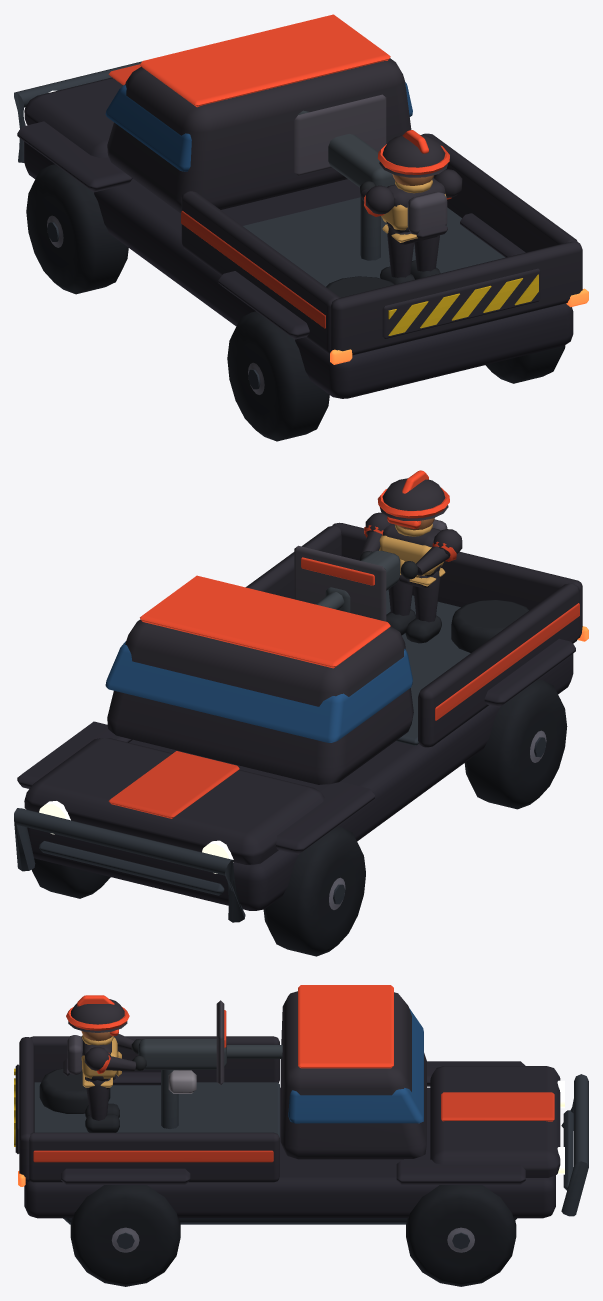
Rendered from technical.glb.
3 views of the same model, one above another, from view 1: azimuth 30°, elevation 25°; view 2: azimuth 150°, elevation 25°; view 3: azimuth 270°, elevation 25° (orthographic). The views are drawn at different scales.
Visible parts, largest first — view 1: technical Ashen charcoal, technical Tyre black, technical Ember paint, technical Gunmetal, technical Turret Ashen slate, technical Turret Ashen charcoal, technical Turret Gunmetal, technical Tinted glass, technical Hazard yellow, technical Turret Ember paint, technical Turret Sand webbing, technical Turret Rubber (+1 smaller); view 2: technical Ashen charcoal, technical Tyre black, technical Ember paint, technical Gunmetal, technical Tinted glass, technical Turret Ashen charcoal, technical Turret Ashen slate, technical Turret Ember paint, technical Turret Rubber, technical Turret Sand webbing, technical Turret Gunmetal, technical Lamp glow; view 3: technical Ashen charcoal, technical Tyre black, technical Ember paint, technical Gunmetal, technical Tinted glass, technical Turret Gunmetal, technical Turret Ashen charcoal, technical Turret Ashen slate, technical Turret Ember paint, technical Turret Rubber, technical Turret Sand webbing, technical Ash grey (+1 smaller).
Part boxes in pixels (x1,y1,x2,y2): technical Ashen charcoal: (17, 58, 582, 398); technical Tyre black: (26, 164, 565, 441); technical Ember paint: (108, 14, 390, 328); technical Gunmetal: (14, 61, 504, 389); technical Turret Ashen slate: (294, 94, 447, 234); technical Turret Ashen charcoal: (360, 135, 462, 277); technical Turret Gunmetal: (297, 110, 395, 260); technical Tinted glass: (105, 82, 412, 171); technical Hazard yellow: (388, 274, 538, 335); technical Turret Ember paint: (364, 130, 451, 216); technical Turret Sand webbing: (381, 180, 446, 242); technical Turret Rubber: (360, 181, 440, 284); technical Ashen charcoal: (17, 522, 582, 910); technical Tyre black: (31, 599, 567, 956); technical Ember paint: (109, 575, 579, 818); technical Gunmetal: (14, 589, 546, 922); technical Tinted glass: (105, 641, 412, 742); technical Turret Ashen charcoal: (361, 478, 462, 622); technical Turret Ashen slate: (294, 519, 447, 621); technical Turret Ember paint: (301, 470, 456, 585); technical Turret Rubber: (360, 551, 441, 643); technical Turret Sand webbing: (379, 524, 445, 586); technical Turret Gunmetal: (315, 550, 400, 612); technical Lamp glow: (39, 801, 233, 873); technical Ashen charcoal: (15, 991, 560, 1218); technical Tyre black: (39, 1068, 516, 1286); technical Ember paint: (33, 985, 554, 1162); technical Gunmetal: (34, 1074, 588, 1249); technical Tinted glass: (288, 1008, 423, 1123); technical Turret Gunmetal: (138, 1038, 282, 1128); technical Turret Ashen charcoal: (63, 999, 136, 1120); technical Turret Ashen slate: (67, 1000, 224, 1085); technical Turret Ember paint: (66, 995, 226, 1073); technical Turret Rubber: (85, 1039, 146, 1132); technical Turret Sand webbing: (81, 1034, 121, 1087); technical Ash grey: (111, 1227, 474, 1252).
Bounding box in the file's own units: 2.19 × 2.06 × 4.54.
13 materials, 10 textured.
